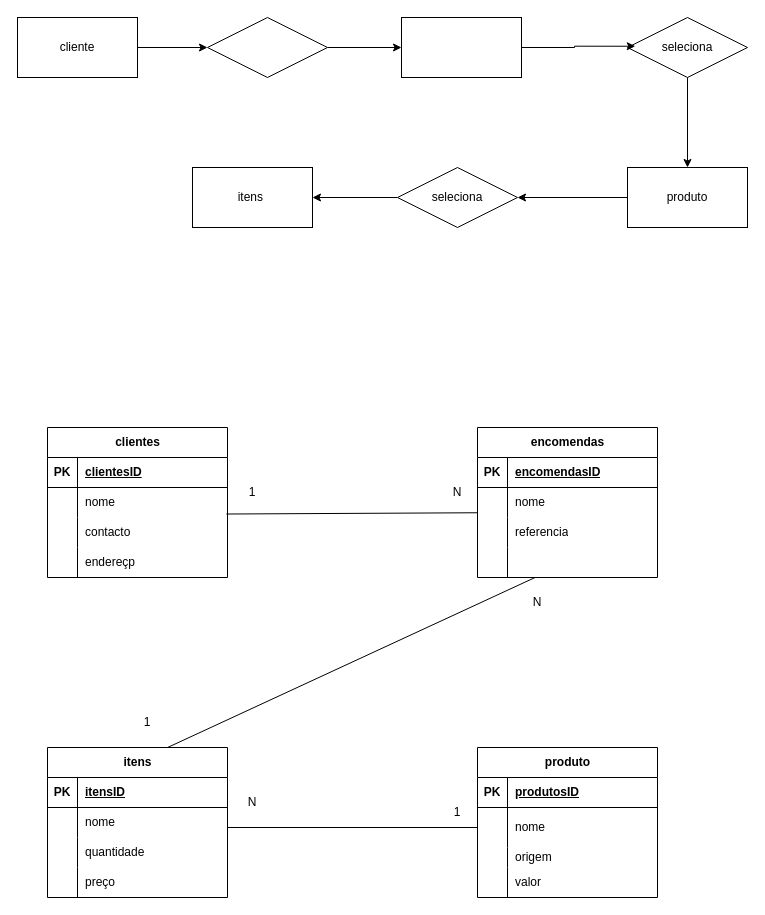
Some shapes in this 765 by 915 pixel diagram are drawn without their labels. Each missing label, with the centre of its shape:
"encomenda" belongs at (x=461, y=47).
"faz" belongs at (x=267, y=47).
